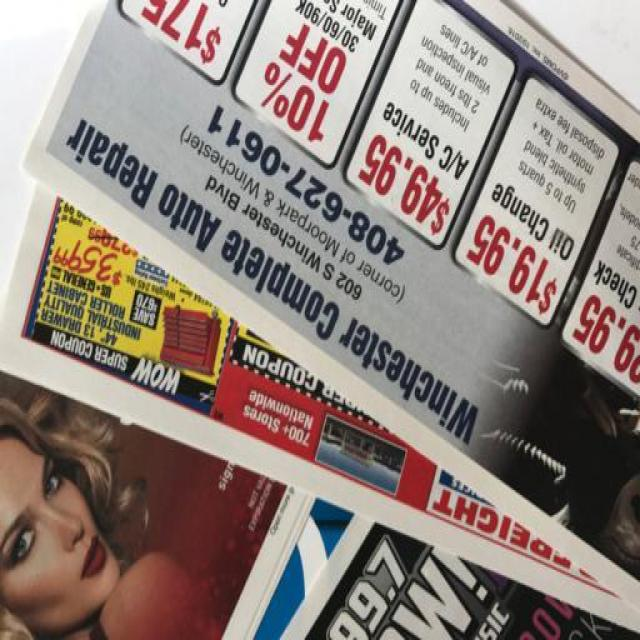paper: (36, 11, 640, 640)
